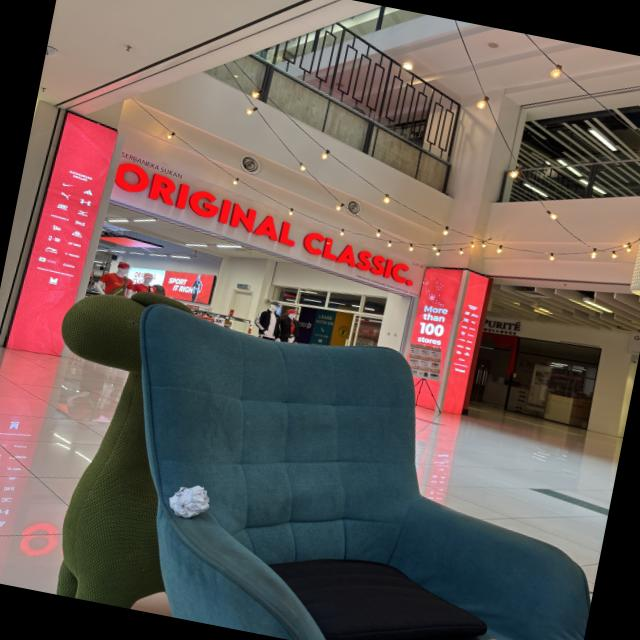crumpled_paper: (163, 478, 214, 524)
